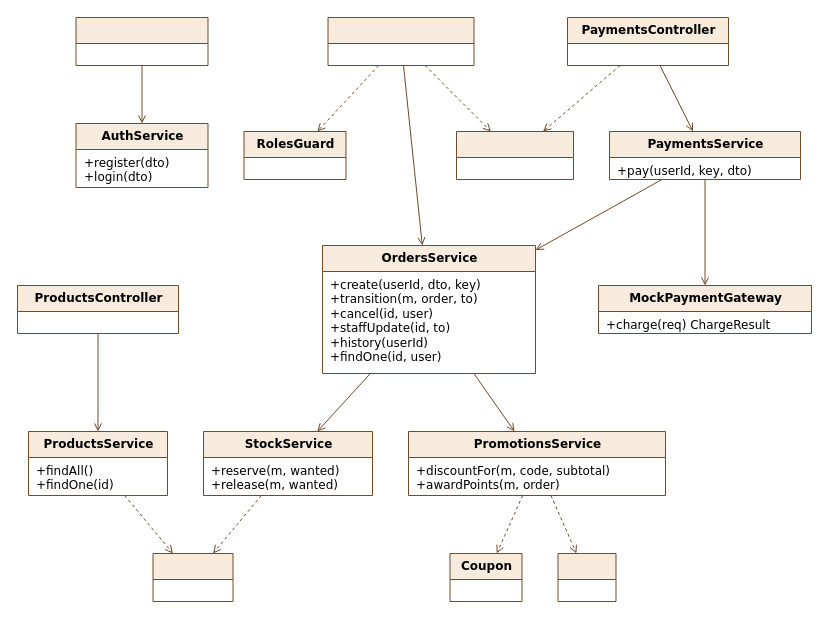
This 829x619 diagram has some shape labels left out. The shapes that lost their labels are listed below. From the top down, each one's centre as x and y in pixels, then its label:
At (141,41): "AuthController".
At (400,41): "OrdersController".
At (515,155): "JwtAuthGuard".
At (192,577): "Product".
At (586,577): "User".
